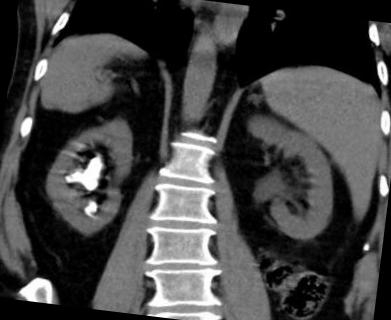Tas_Var: (70, 152, 104, 192), (87, 200, 98, 215), (82, 204, 92, 216), (66, 178, 72, 184), (64, 176, 68, 180)
